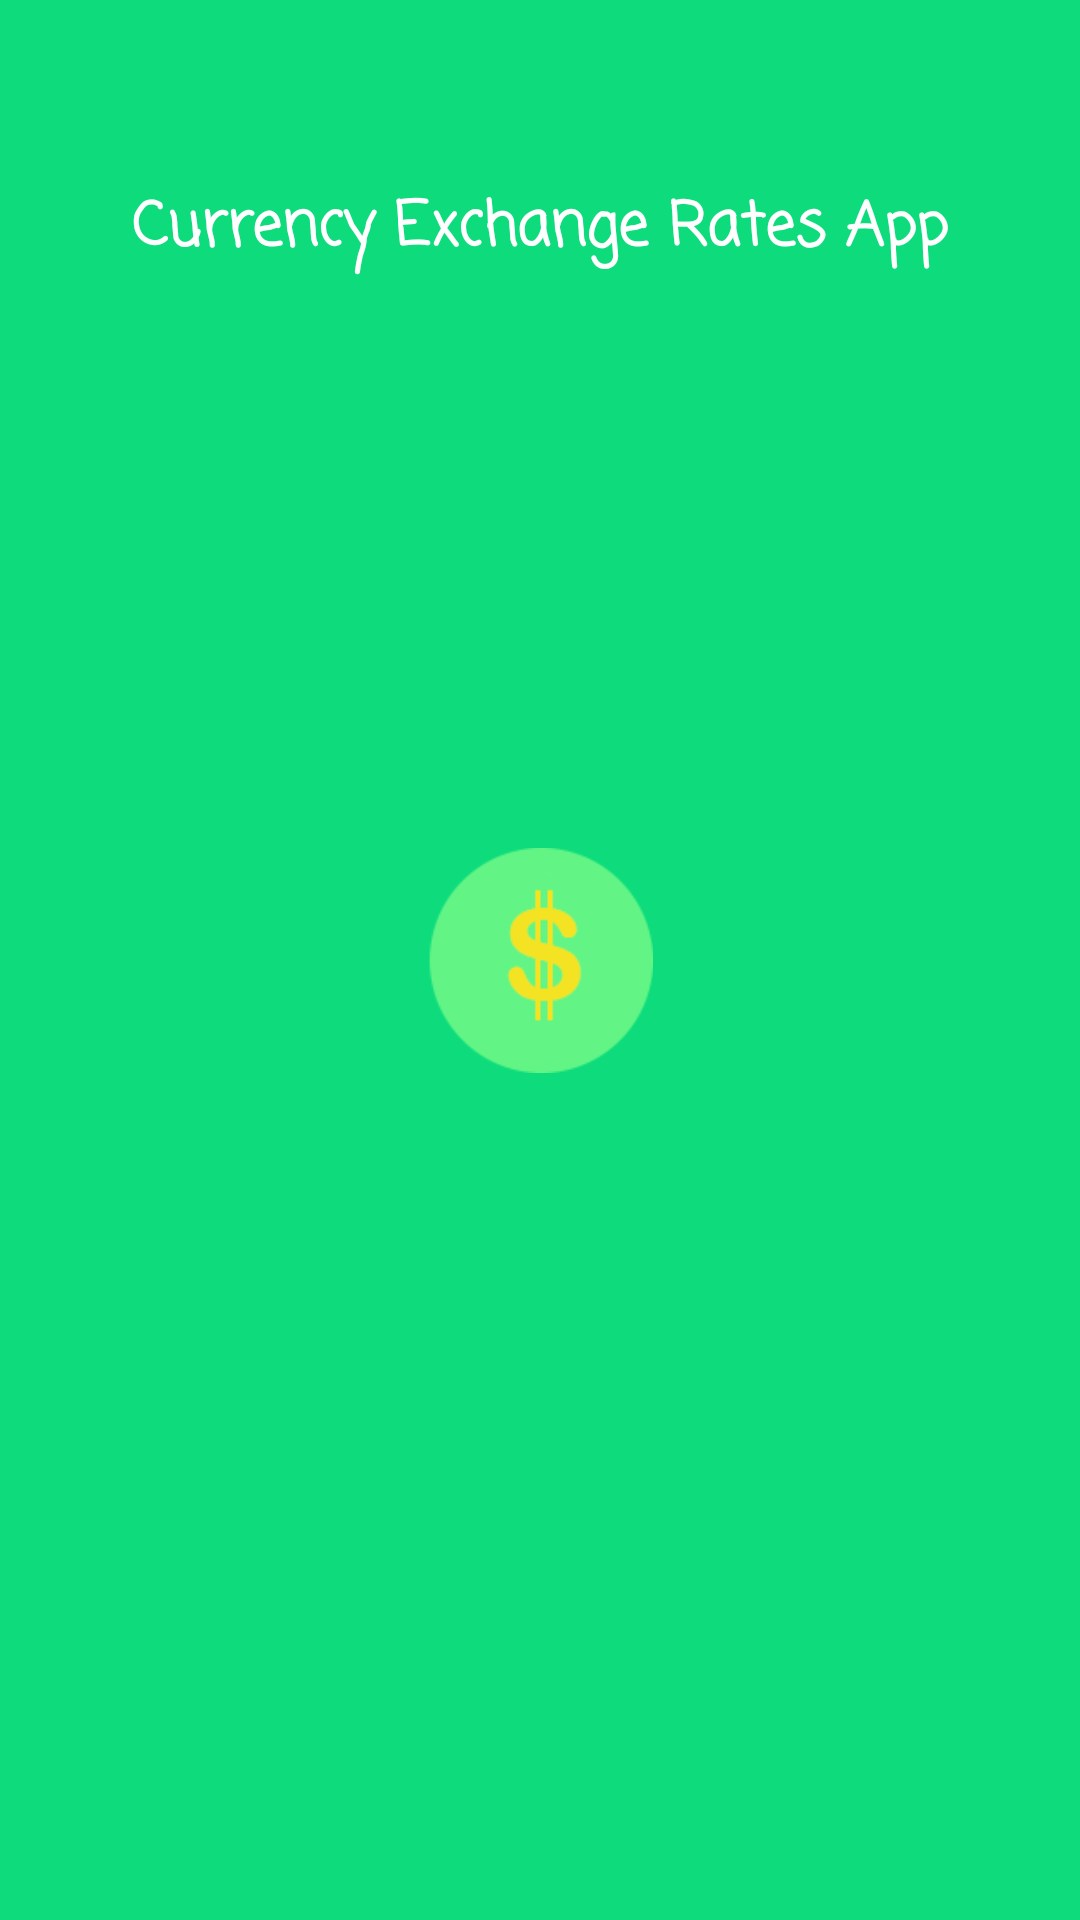

Icon bounding boxes for this 1080px x 1920px phone screenshot, format (x1, y1, x2, y2):
dollar: (429, 848, 653, 1073)
